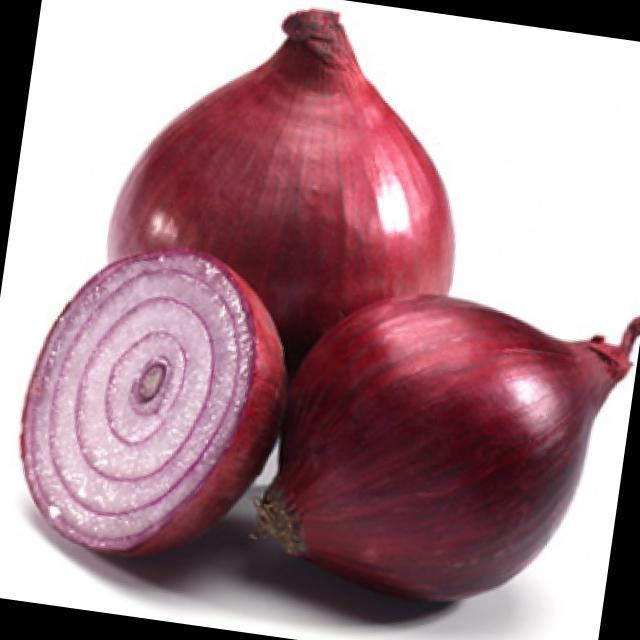ONIONS: (101, 0, 497, 344), (254, 248, 614, 620), (10, 223, 296, 580)
